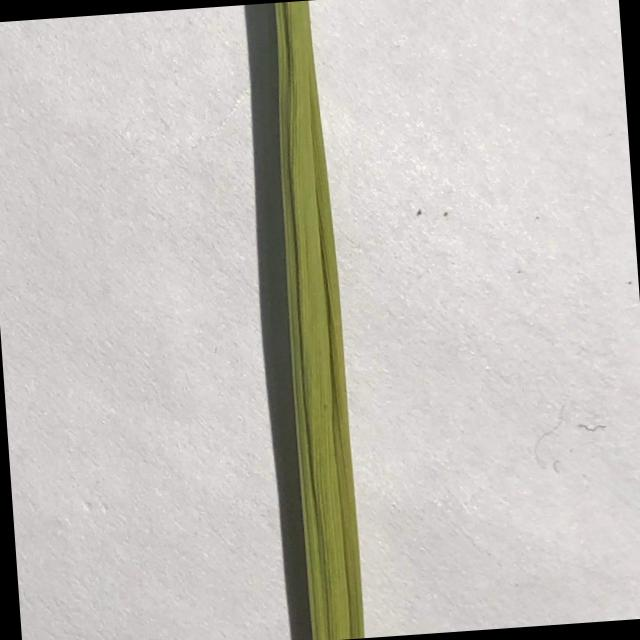Rice_Healthy: (274, 0, 364, 640)
